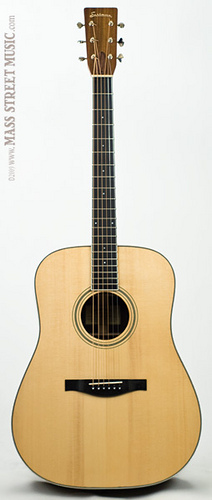guitar: (11, 5, 204, 495)
